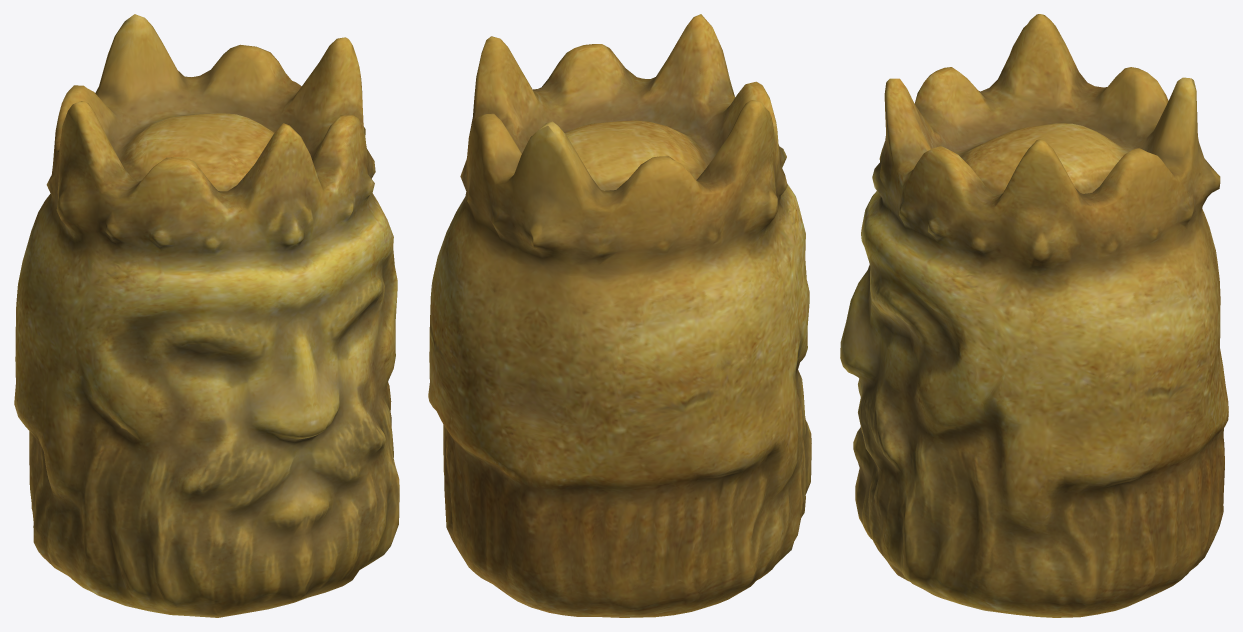
The model's file is Viking_King.fbx.
3 renders of one model, left to right at view 1: azimuth 30°, elevation 25°; view 2: azimuth 150°, elevation 25°; view 3: azimuth 270°, elevation 25°, orthographic.
Parts seen in each view (by area): view 1: Viking_King; view 2: Viking_King; view 3: Viking_King.
Part boxes in pixels (x1,y1,x2,y2): Viking_King: (14, 14, 399, 617); Viking_King: (428, 14, 811, 617); Viking_King: (840, 14, 1228, 617).
Bounding box in the file's own units: 8.2 × 12.16 × 8.5.
1 material, 1 textured.
